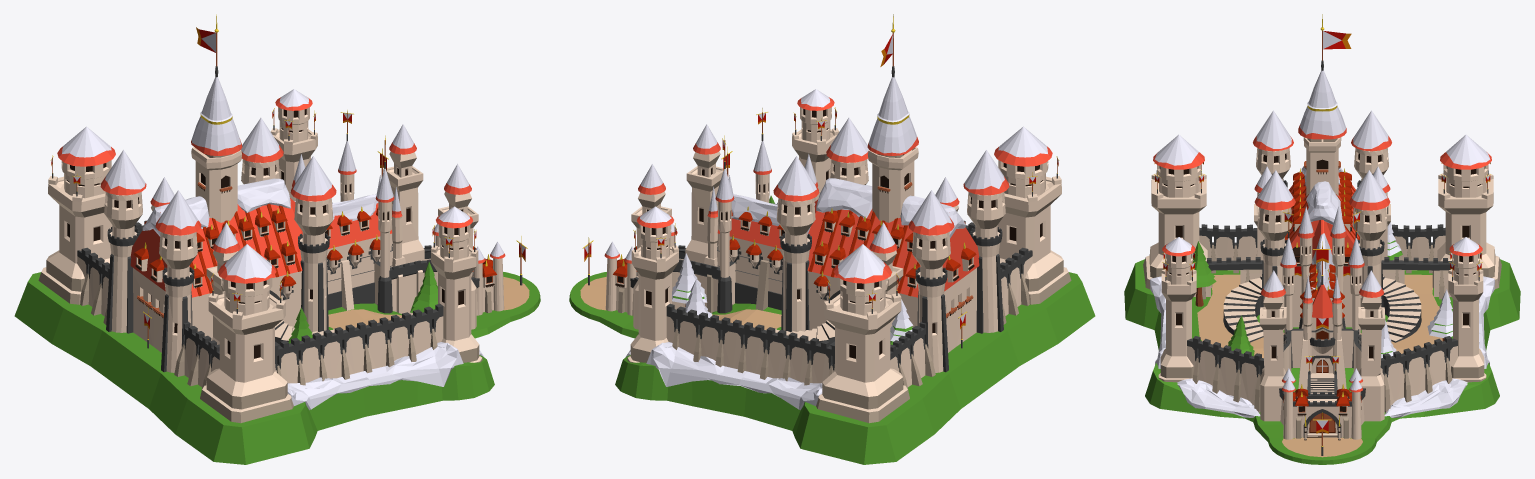
File: hero-print.glb
The picture shows the model from 3 angles, left to right: view 1: azimuth 30°, elevation 25°; view 2: azimuth 150°, elevation 25°; view 3: azimuth 270°, elevation 25°; orthographic projection. The views are drawn at different scales.
Parts seen in each view (by area): view 1: Castle_Medieval_0; view 2: Castle_Medieval_0; view 3: Castle_Medieval_0.
Part boxes in pixels (x1,y1,x2,y2): Castle_Medieval_0: (14, 14, 540, 464); Castle_Medieval_0: (569, 14, 1095, 464); Castle_Medieval_0: (1124, 14, 1520, 464).
Bounding box in the file's own units: 38 × 30.32 × 34.79.
1 material, 1 textured.
